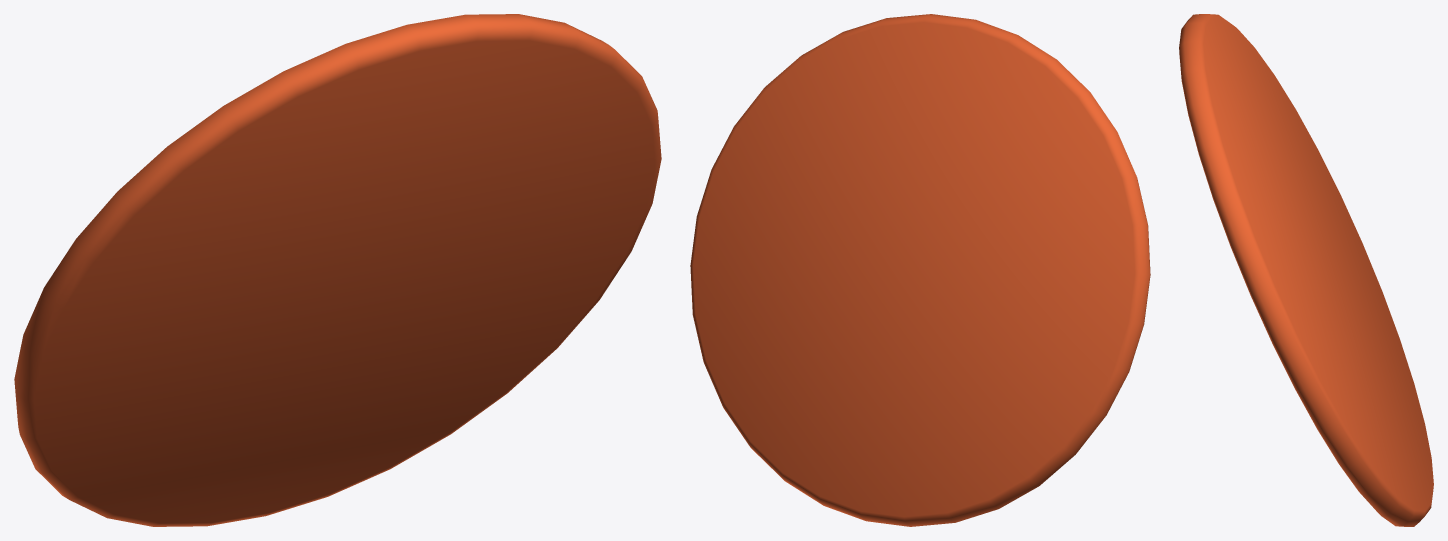
Rendered from Pancake_single.fbx.
The picture shows the model from 3 angles, left to right: view 1: azimuth 30°, elevation 25°; view 2: azimuth 150°, elevation 25°; view 3: azimuth 270°, elevation 25°; orthographic projection. The views are drawn at different scales.
Parts seen in each view (by area): view 1: Cylinder.006; view 2: Cylinder.006; view 3: Cylinder.006.
Boxes of the visible parts, left/top/right/bottom form: Cylinder.006: left=14, top=14, right=661, bottom=526; Cylinder.006: left=690, top=14, right=1150, bottom=526; Cylinder.006: left=1179, top=14, right=1433, bottom=526.
Size of the model in its own units: 0.3299 by 0.2991 by 0.1508.
